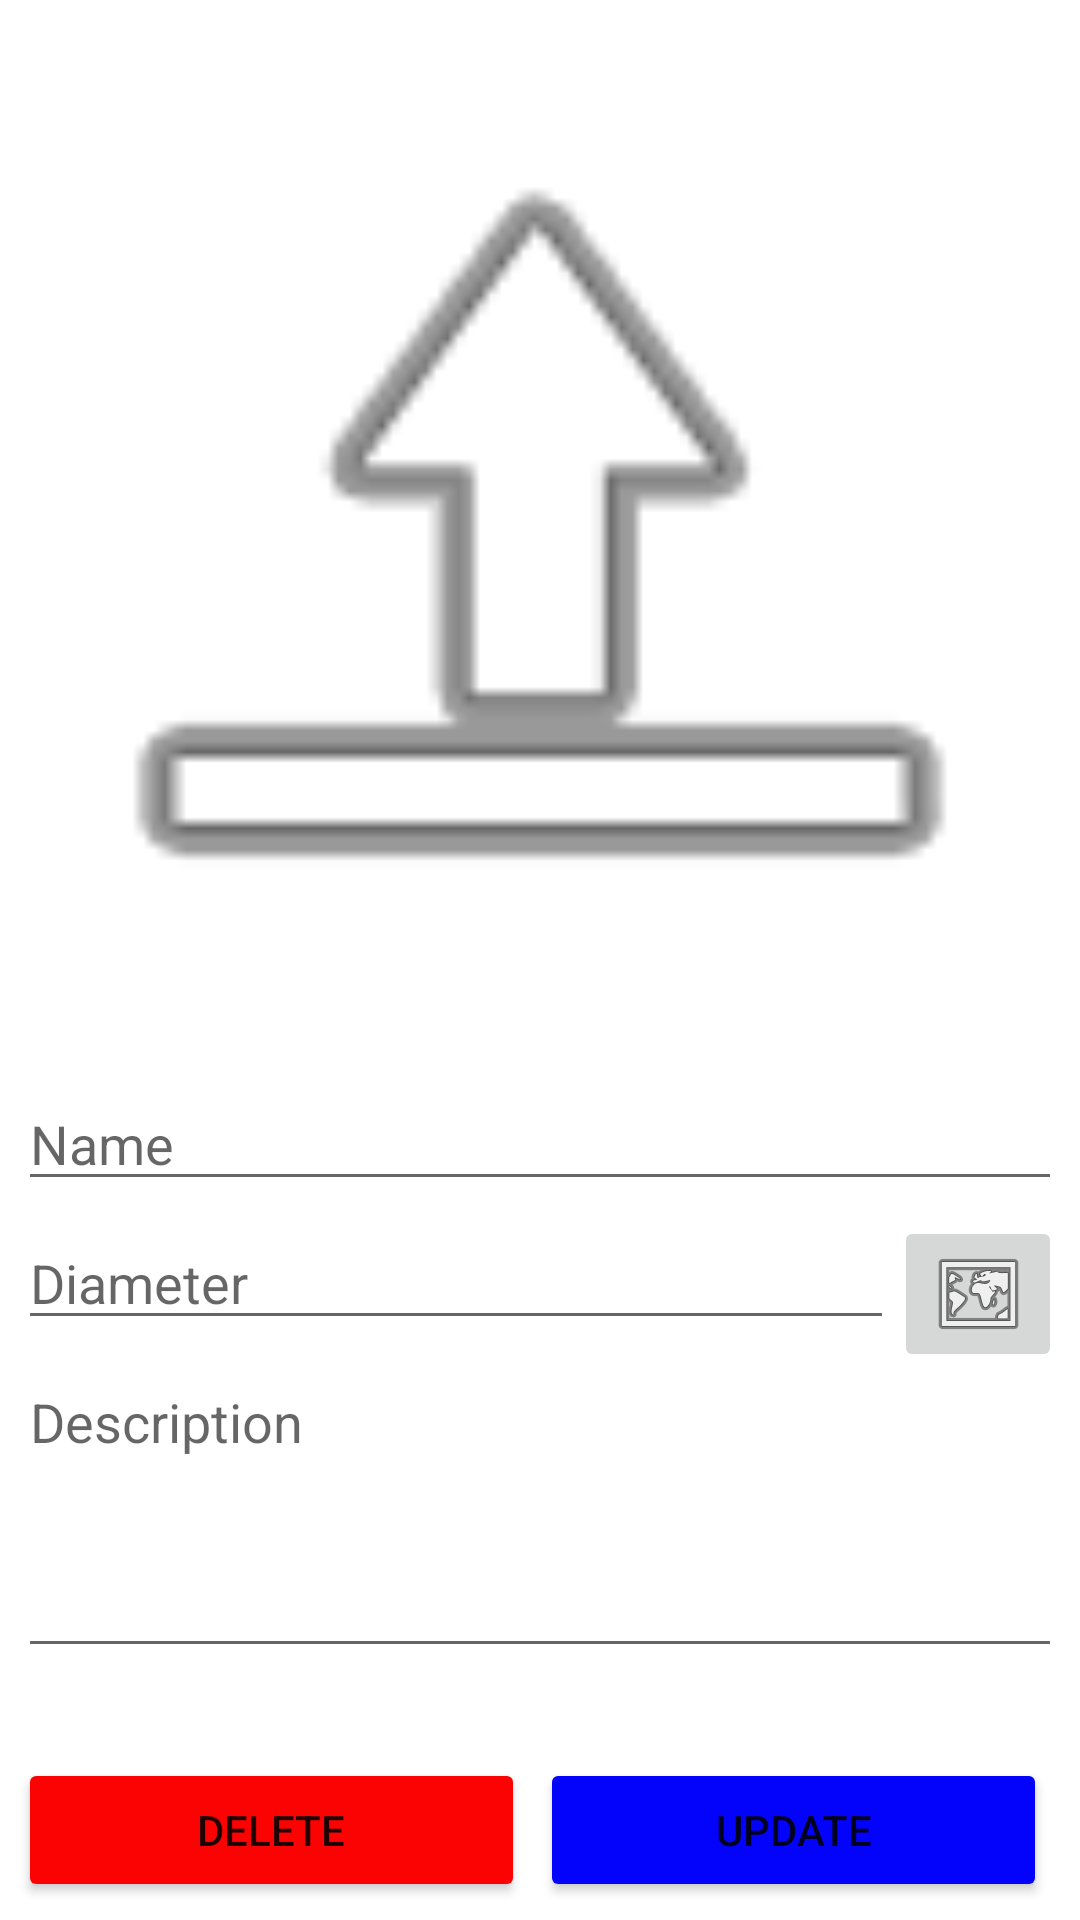

Where to tap for icons on this 1080px x 1920px app screen, as [x,y]:
mapmode: [978,1294]
